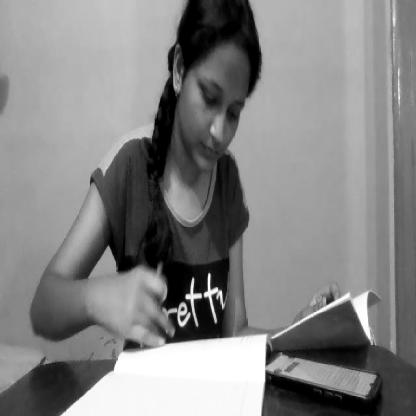Distracted: (163, 0, 268, 181)
